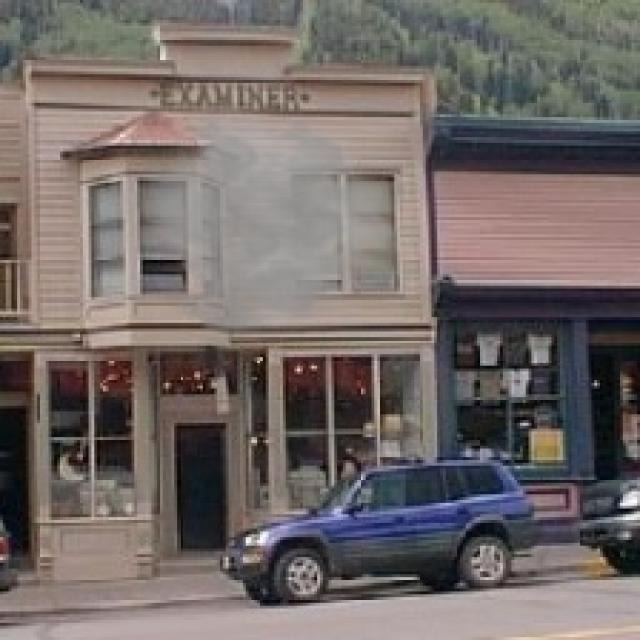Smoke: (137, 108, 409, 352)
